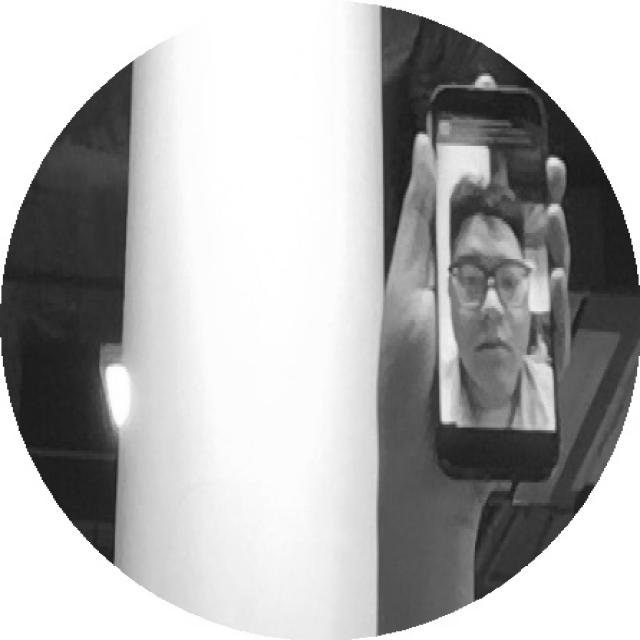fake: (398, 71, 592, 493), (422, 79, 575, 489)
